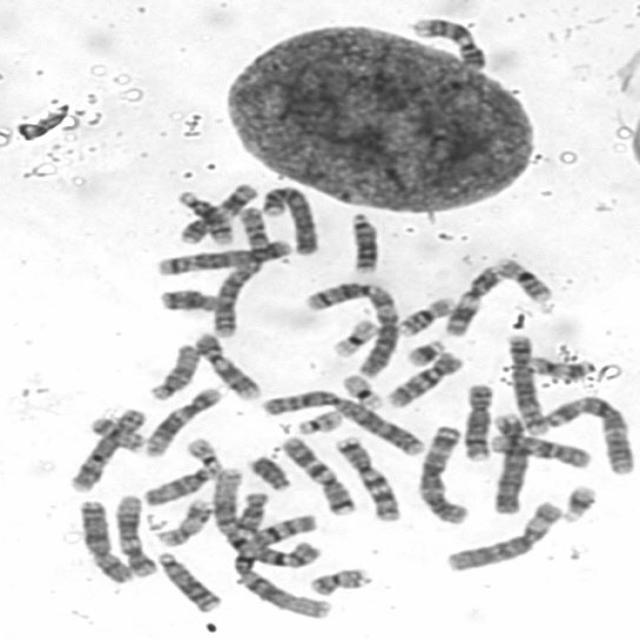A1: (209, 463, 323, 570), (229, 510, 330, 620)
A2: (264, 388, 426, 457), (209, 205, 270, 339)
A3: (540, 393, 635, 476), (413, 422, 472, 524)
B4: (260, 183, 320, 256), (488, 409, 528, 514)
B5: (152, 237, 294, 276), (504, 331, 548, 436)
C10: (382, 350, 465, 410), (484, 431, 594, 470)
C11: (175, 180, 261, 246), (440, 262, 504, 338)
C12: (142, 384, 223, 458), (110, 491, 158, 578)
C6: (440, 497, 565, 573), (357, 287, 399, 379)
C7: (330, 433, 403, 524), (278, 432, 357, 516)
C8: (66, 405, 148, 493), (459, 380, 496, 463)
C9: (190, 331, 262, 401), (409, 14, 487, 71)
D13: (153, 549, 222, 614), (346, 210, 380, 274)
D14: (170, 189, 234, 246), (298, 281, 379, 312)
D15: (141, 463, 221, 507), (144, 342, 202, 402)
E16: (492, 254, 554, 304), (392, 293, 454, 338)
E17: (152, 496, 212, 548), (526, 353, 593, 380)
E18: (158, 287, 225, 317), (230, 488, 270, 534)
F19: (328, 316, 380, 358), (338, 372, 385, 410)
F20: (85, 413, 146, 453), (306, 565, 372, 597)
G21: (558, 481, 599, 524), (403, 336, 447, 368)
G22: (183, 434, 226, 473), (292, 407, 346, 435)
X: (76, 496, 136, 584)
Y: (245, 453, 292, 492)
